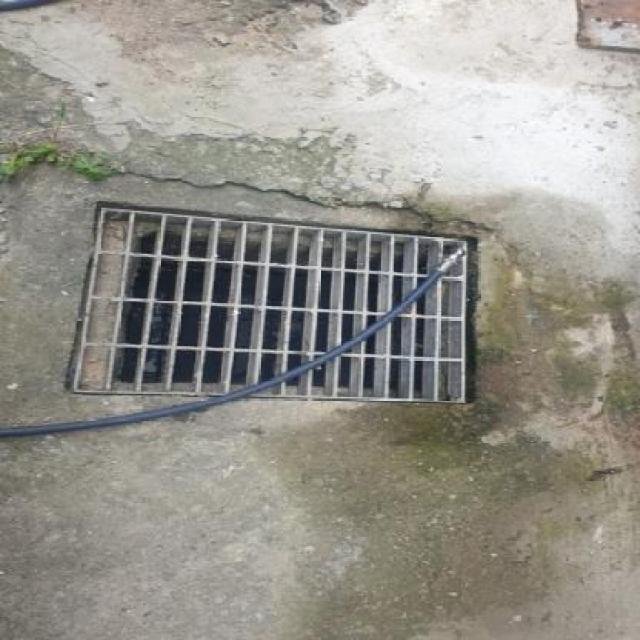Drain Hole: (56, 191, 493, 425)
